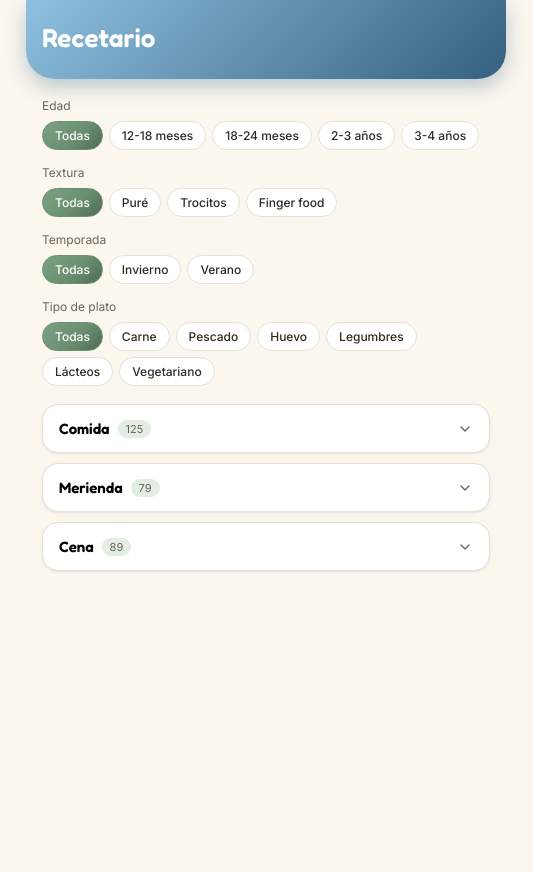
Test: Recetario — acordeones por comida › abrir el acordeón de Comida muestra sus recetas
Click the text "Comida".
click(84, 428)  # box left=59, top=419, right=110, bottom=438
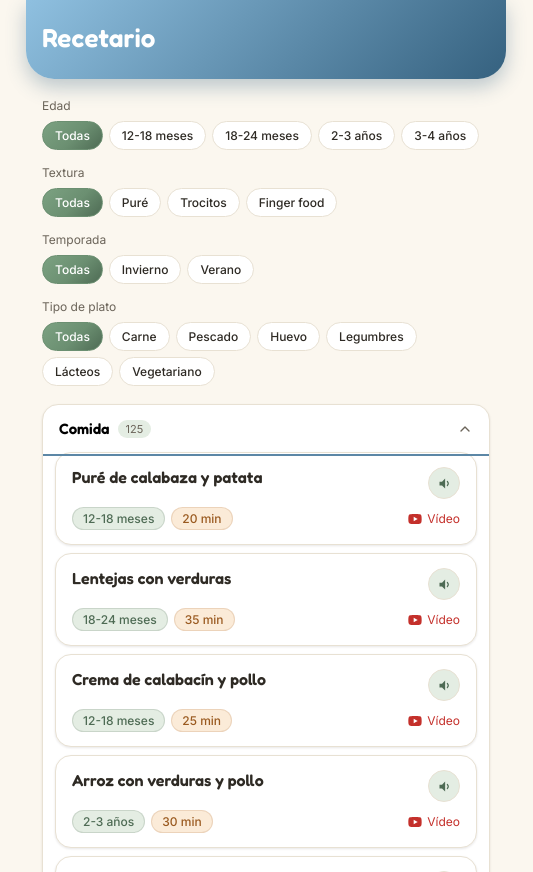
expect the heading "Puré de calabaza y patata" is shown: met, box left=72, top=467, right=262, bottom=487
